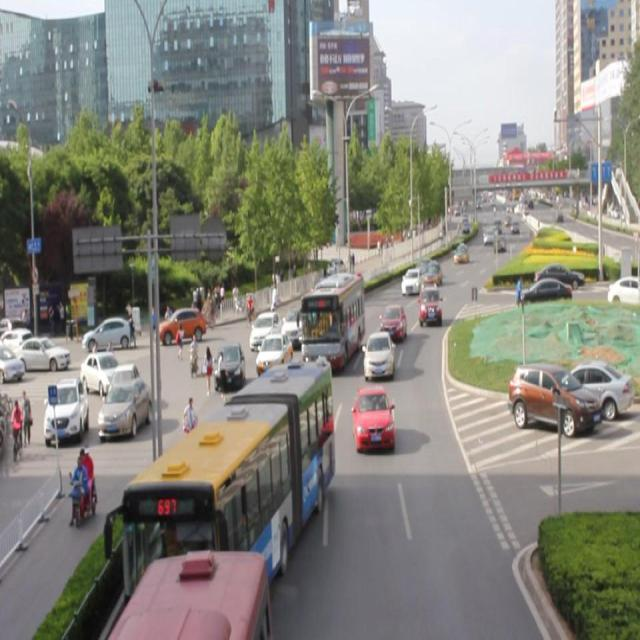car: (353, 384, 395, 452), (253, 363, 297, 423), (211, 337, 245, 392), (363, 331, 394, 380), (280, 304, 315, 347), (255, 334, 293, 372), (248, 308, 281, 351), (380, 305, 406, 340), (419, 283, 440, 325), (401, 267, 420, 295), (423, 262, 442, 288)
van: (125, 363, 332, 592), (121, 548, 269, 640), (302, 271, 363, 365)
